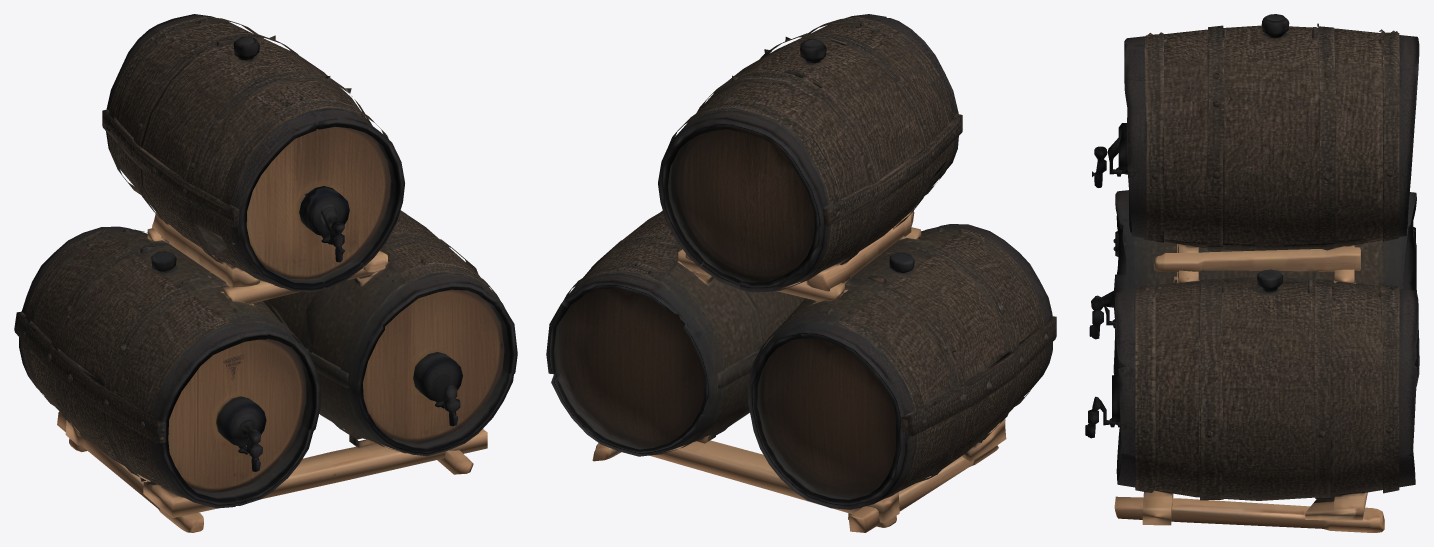
The model's file is botti_rastrelliera.fbx.
The picture shows the model from 3 angles, left to right: view 1: azimuth 30°, elevation 25°; view 2: azimuth 150°, elevation 25°; view 3: azimuth 270°, elevation 25°; orthographic projection. The views are drawn at different scales.
Parts seen in each view (by area): view 1: tripo_node_d4703374; view 2: tripo_node_d4703374; view 3: tripo_node_d4703374.
Boxes of the visible parts, left/top/right/bottom form: tripo_node_d4703374: left=14, top=14, right=517, bottom=532; tripo_node_d4703374: left=546, top=14, right=1056, bottom=532; tripo_node_d4703374: left=1085, top=14, right=1419, bottom=532.
Size of the model in its own units: 0.9839 by 0.9995 by 0.7017.
1 material, 1 textured.
